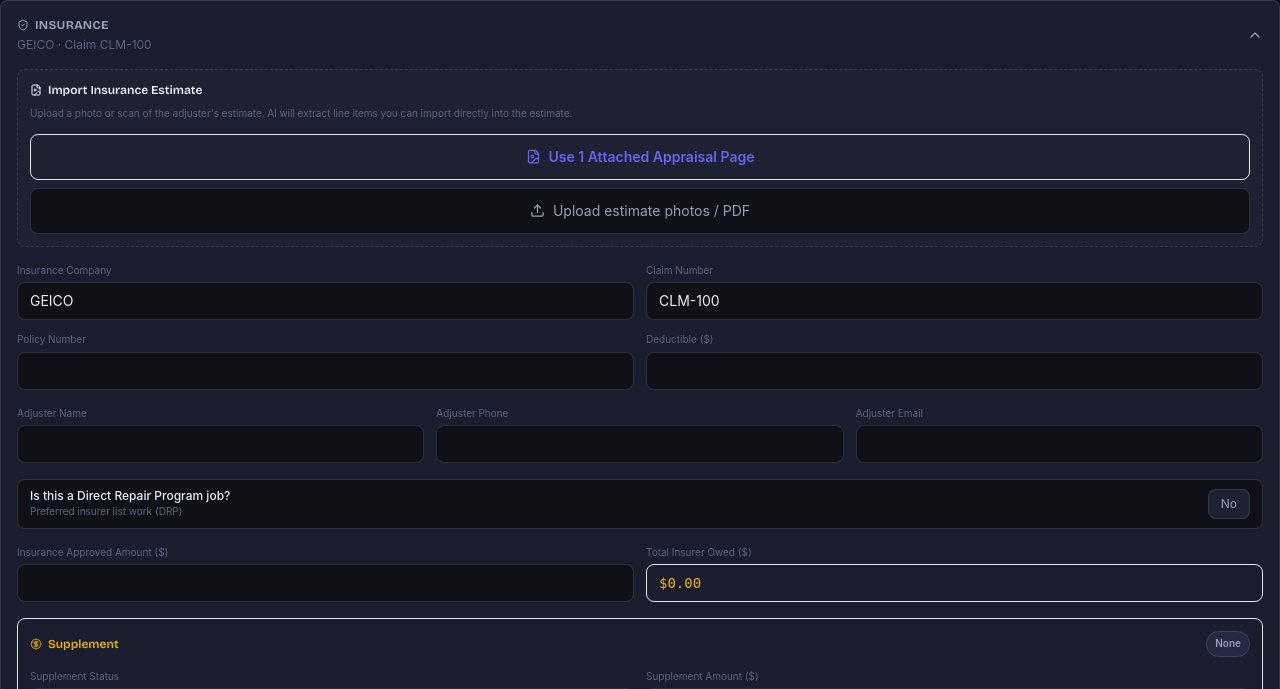
Scenario: InsurancePanel OCR import › reuses appraisal evidence already attached to an existing RO
The width and height of the screenshot is (1280, 689).
Click the button "Use 1 Attached Appraisal Page" at [640, 156], box [30, 134, 1250, 180]
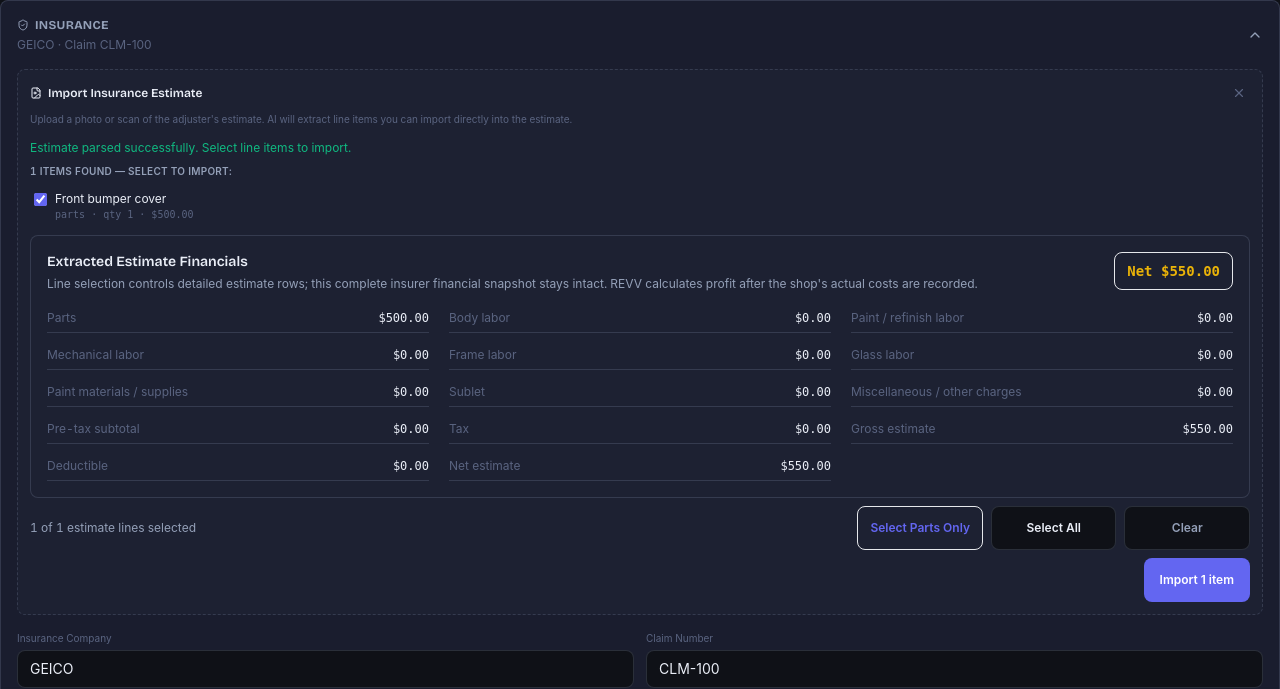
Check: the text "Front bumper cover" is shown, box [55, 191, 166, 206]
